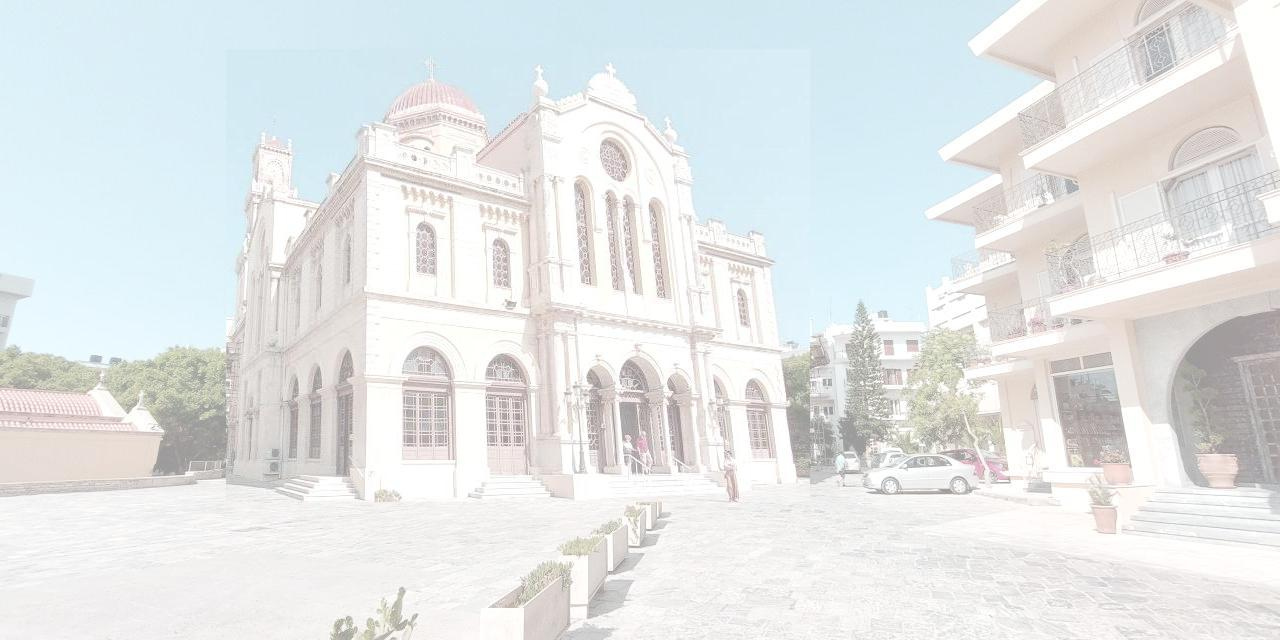Agios Minas: (227, 50, 811, 503)
